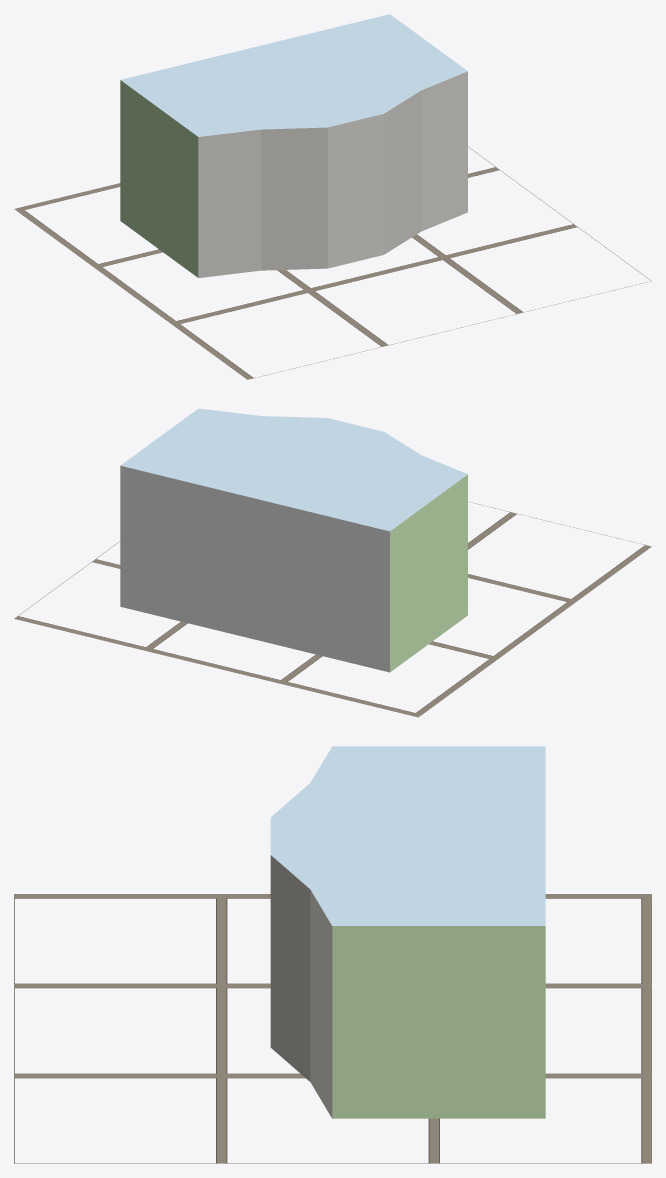
The model's file is Wall_Straight_Deformed_Convex_2x2_Mid.glb.
3 renders of one model, top to bottom at view 1: azimuth 30°, elevation 25°; view 2: azimuth 150°, elevation 25°; view 3: azimuth 270°, elevation 25°, orthographic. The views are drawn at different scales.
Parts seen in each view (by area): view 1: Wall_Straight_Deformed_Convex_2x2_Mid, Floor; view 2: Wall_Straight_Deformed_Convex_2x2_Mid, Floor; view 3: Wall_Straight_Deformed_Convex_2x2_Mid, Floor.
Part boxes in pixels (<box>): Wall_Straight_Deformed_Convex_2x2_Mid: <box>120,14,467,277</box>; Floor: <box>14,147,651,379</box>; Wall_Straight_Deformed_Convex_2x2_Mid: <box>120,408,467,672</box>; Floor: <box>14,501,651,717</box>; Wall_Straight_Deformed_Convex_2x2_Mid: <box>270,746,545,1118</box>; Floor: <box>14,894,651,1163</box>.
Size of the model in its own units: 300 by 100 by 300.
5 materials, 1 textured.
